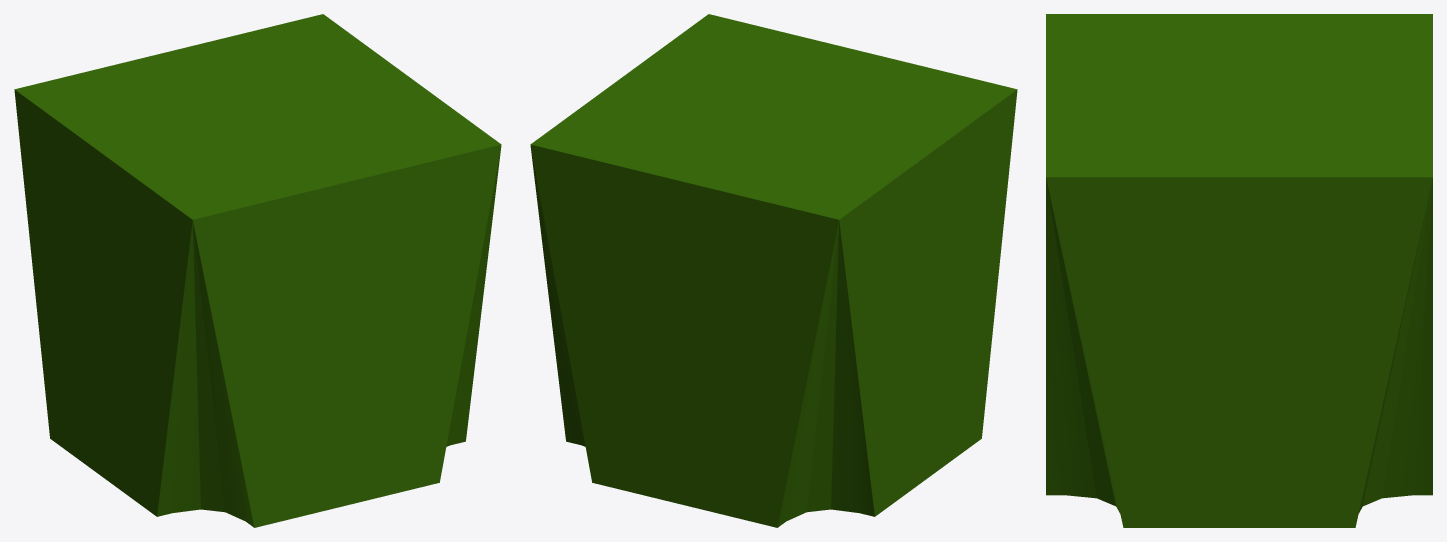
The model's file is Grass_05_O_R.fbx.
3 views of the same model, side by side, from view 1: azimuth 30°, elevation 25°; view 2: azimuth 150°, elevation 25°; view 3: azimuth 270°, elevation 25° (orthographic). The views are drawn at different scales.
Visible parts, largest first — view 1: 3, 1, 4, 2; view 2: 4, 2, 3, 1; view 3: 1, 2, 3, 4.
Boxes of the visible parts, bbox=[...] form: 3: bbox=[103, 117, 346, 527]; 1: bbox=[258, 79, 501, 505]; 4: bbox=[14, 51, 257, 477]; 2: bbox=[169, 14, 411, 116]; 4: bbox=[685, 117, 928, 527]; 2: bbox=[530, 79, 773, 505]; 3: bbox=[774, 51, 1017, 477]; 1: bbox=[620, 14, 862, 116]; 1: bbox=[1046, 95, 1239, 527]; 2: bbox=[1239, 95, 1432, 527]; 3: bbox=[1046, 14, 1239, 95]; 4: bbox=[1239, 14, 1432, 95].
Bounding box in the file's own units: 200 × 200 × 200.
